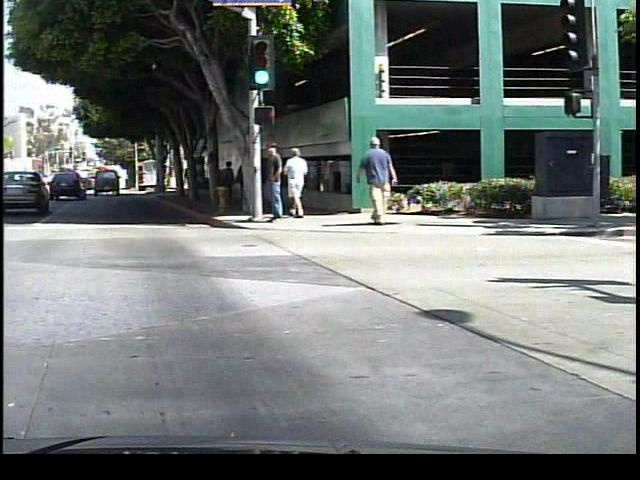person: (355, 133, 398, 223), (262, 140, 291, 231), (280, 145, 311, 219), (220, 156, 238, 207)
